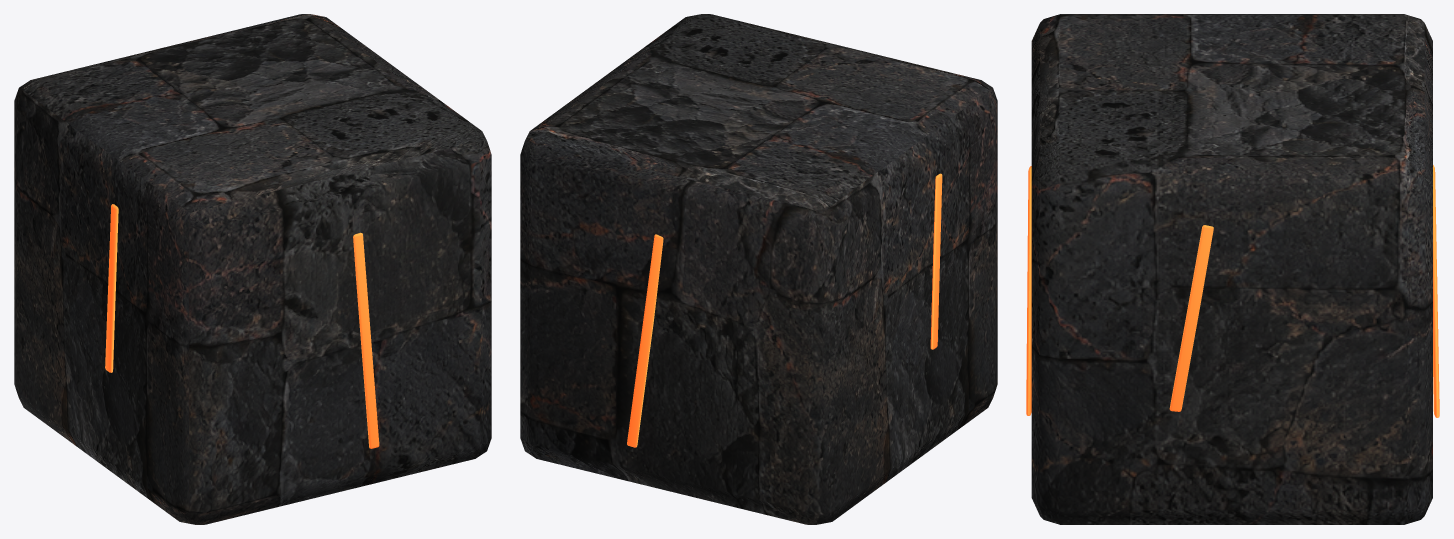
File: w3_block_a.glb
3 renders of one model, left to right at view 1: azimuth 30°, elevation 25°; view 2: azimuth 150°, elevation 25°; view 3: azimuth 270°, elevation 25°, orthographic. The views are drawn at different scales.
Visible parts, largest first — view 1: w3_block_a; view 2: w3_block_a; view 3: w3_block_a.
Part boxes in pixels (x1,y1,x2,y2): w3_block_a: (14,14,491,524); w3_block_a: (520,14,997,524); w3_block_a: (1026,14,1439,524).
Bounding box in the file's own units: 1.84 × 1.79 × 1.84.
2 materials, 1 textured.
